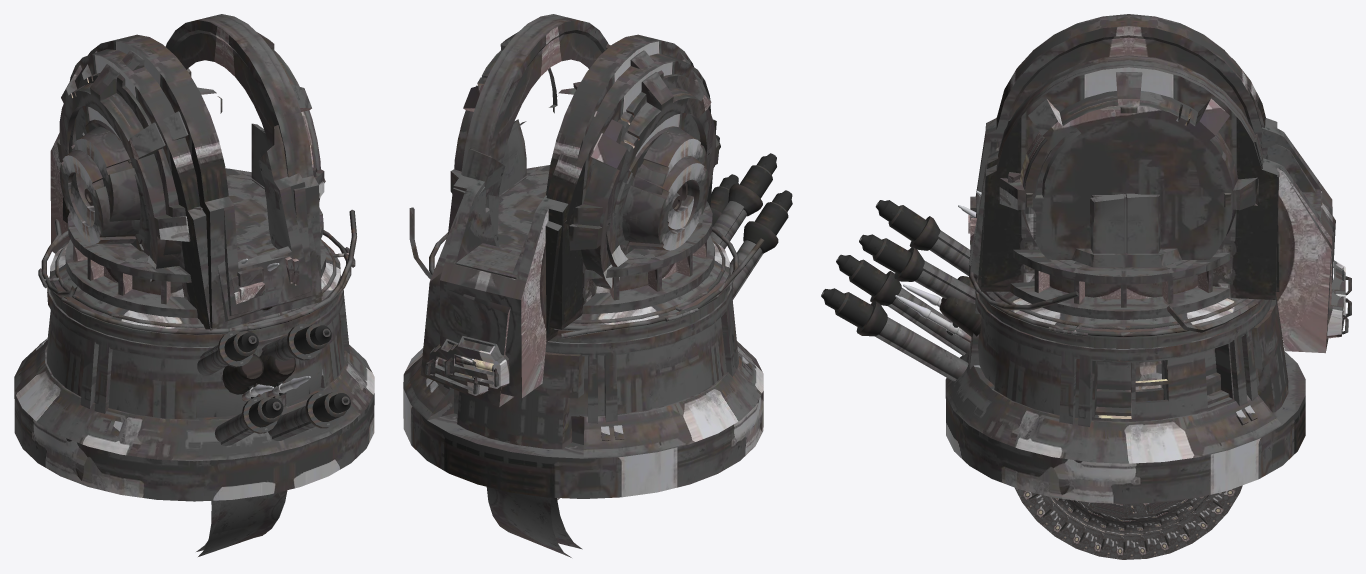
File: aaturret.glb
3 renders of one model, left to right at view 1: azimuth 30°, elevation 25°; view 2: azimuth 150°, elevation 25°; view 3: azimuth 270°, elevation 25°, orthographic.
Bounding box in the file's own units: 3.14 × 4.86 × 4.61.
1 material, 1 textured.
